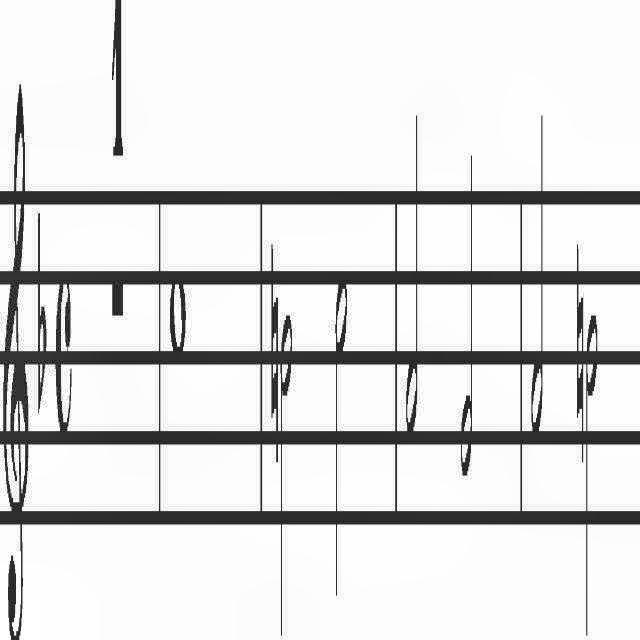Bass-clef: (2, 71, 29, 640)
Bemol: (36, 203, 49, 425)
Full-note: (169, 274, 187, 364)
Half-note: (530, 97, 546, 450), (404, 100, 420, 447), (460, 132, 474, 488), (585, 298, 599, 640), (280, 298, 292, 640), (336, 275, 348, 605)
